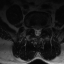CCS_normal: (36, 26, 39, 37)
LFS_severe_stenosis: (41, 25, 44, 31)
LLS_normal: (39, 26, 41, 34)
RFS_severe_stenosis: (30, 25, 33, 31)
RLS_normal: (33, 26, 36, 33)
